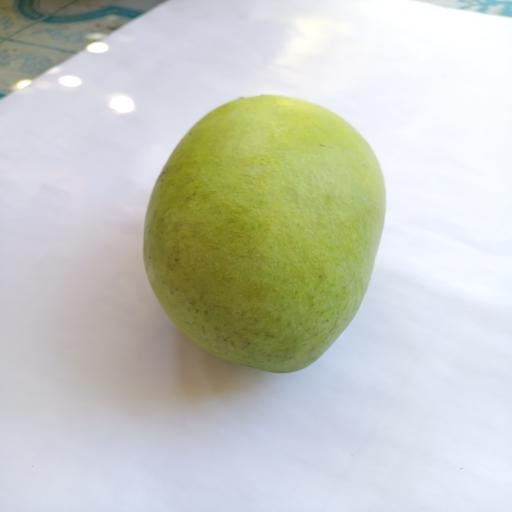mango-unripe: (117, 82, 409, 396)
